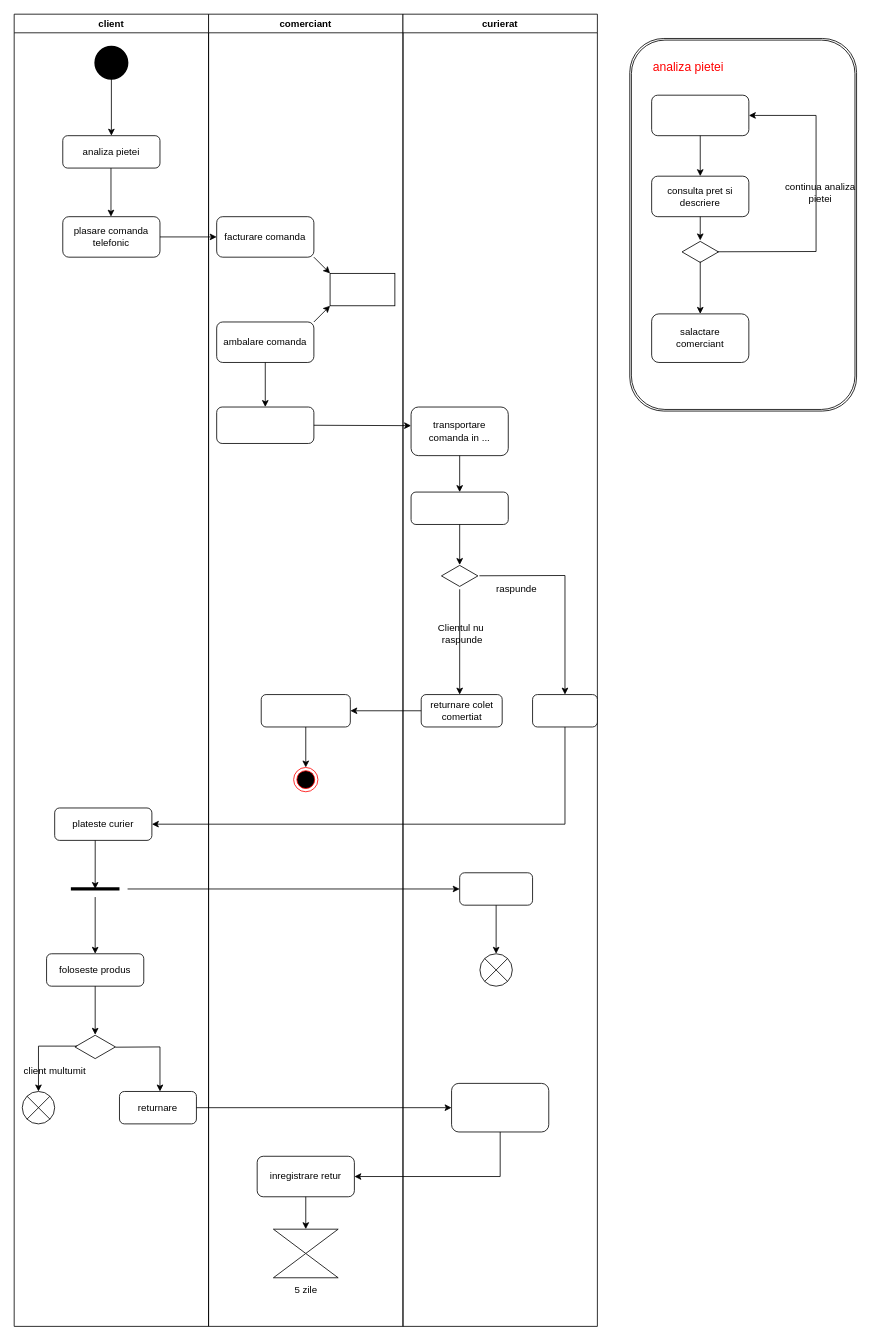
Image size: 879x1341. Some labels were removed from this diagram. The centre of each missing label's shape, as x and y in pixels:
"anulare comanda" goes at point 305,710.
"cauta produs in catalog" goes at point 700,115.
"contactare client" goes at point 459,507.
"deconectare" goes at point 496,888.
"factura" goes at point 362,289.
"predare colet" goes at point 564,710.
"predare curier" goes at point 265,424.
"transportare colet catre comerciant" goes at point 500,1107.
